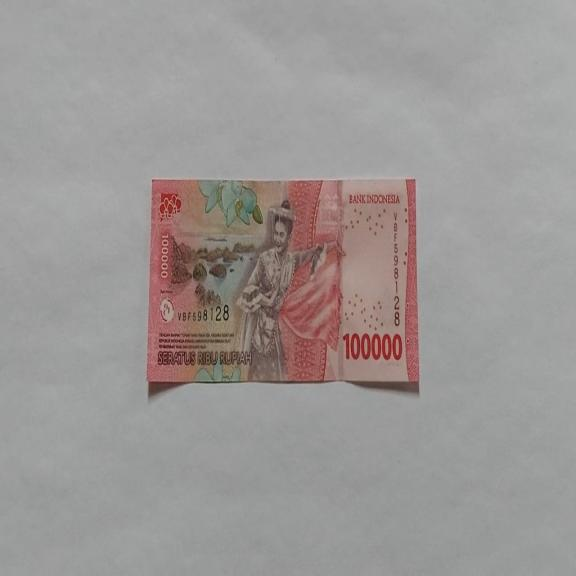Kertas: (146, 176, 419, 389), (342, 329, 403, 362)
